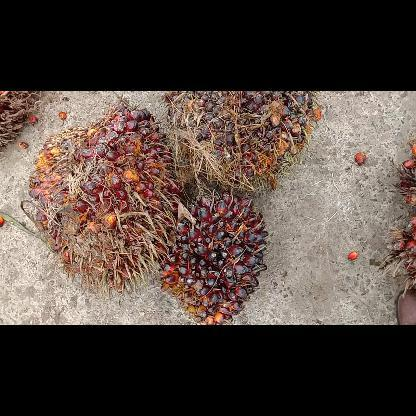Kurang masak: (164, 91, 316, 190), (162, 192, 268, 324)
TBS masak: (29, 93, 179, 291)
